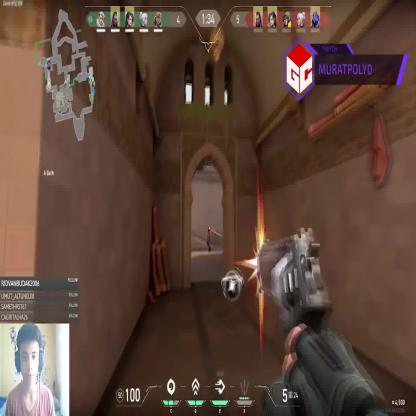enemy: (206, 225, 212, 251)
enemy_head: (208, 225, 210, 231)
